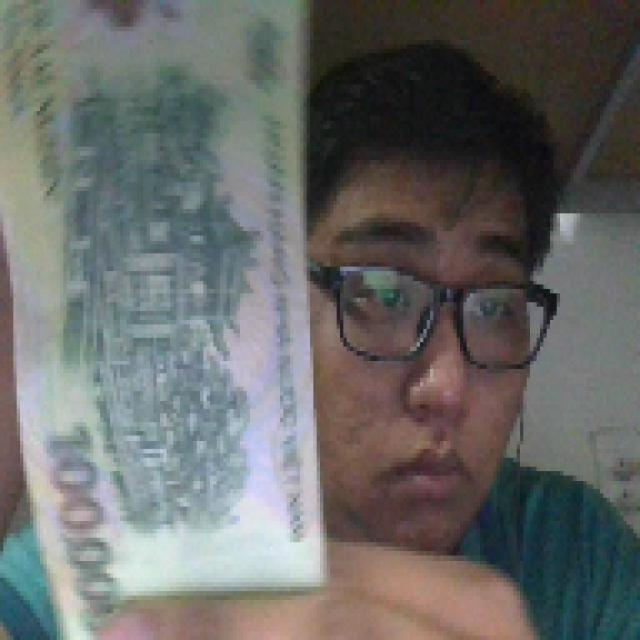100 000 VND: (0, 0, 330, 627)
